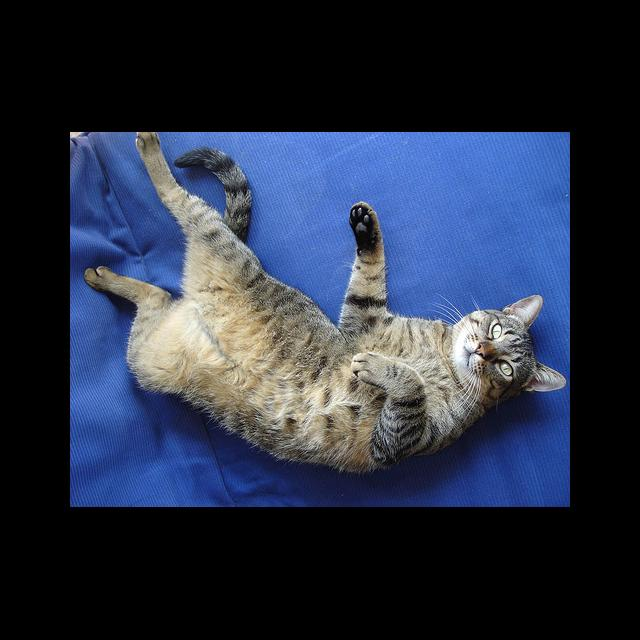animals: (474, 296, 565, 389)
